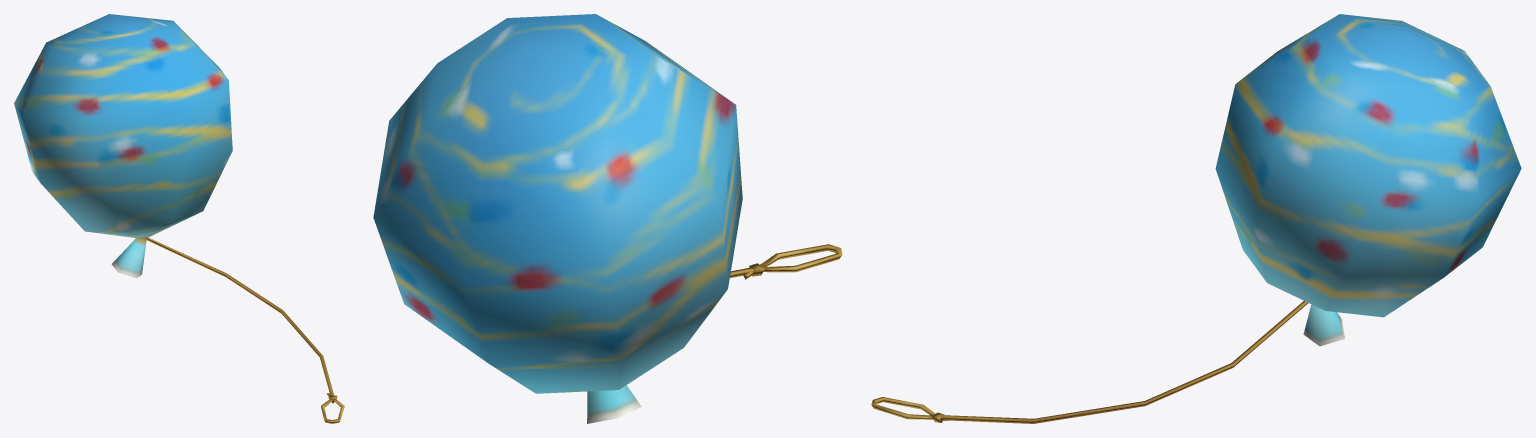
File: jsf_WaterBalloon_10_e.fbx
3 renders of one model, left to right at view 1: azimuth 30°, elevation 25°; view 2: azimuth 150°, elevation 25°; view 3: azimuth 270°, elevation 25°, orthographic. The views are drawn at different scales.
Visible parts, largest first — view 1: jsf_WaterBalloon_10_e; view 2: jsf_WaterBalloon_10_e; view 3: jsf_WaterBalloon_10_e.
Part boxes in pixels (box(x1,y1,x2,y2)): jsf_WaterBalloon_10_e: box(14, 14, 344, 423); jsf_WaterBalloon_10_e: box(373, 14, 842, 423); jsf_WaterBalloon_10_e: box(871, 14, 1521, 423).
Bounding box in the file's own units: 10.92 × 14.38 × 23.6.
